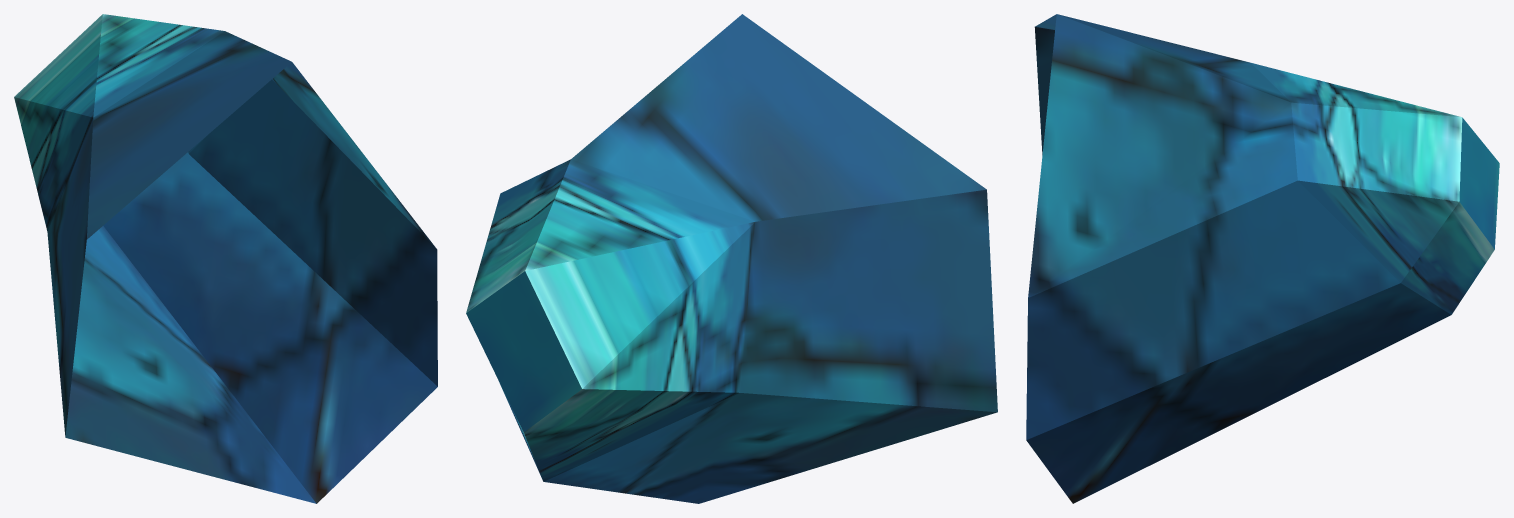
3 renders of one model, left to right at view 1: azimuth 30°, elevation 25°; view 2: azimuth 150°, elevation 25°; view 3: azimuth 270°, elevation 25°, orthographic. The views are drawn at different scales.
Parts seen in each view (by area): view 1: Object008; view 2: Object008; view 3: Object008.
Part boxes in pixels (left/top/right/bottom): Object008: left=14, top=14, right=437, bottom=503; Object008: left=466, top=14, right=997, bottom=503; Object008: left=1026, top=14, right=1499, bottom=503.
Size of the model in its own units: 106 by 128 by 116.
